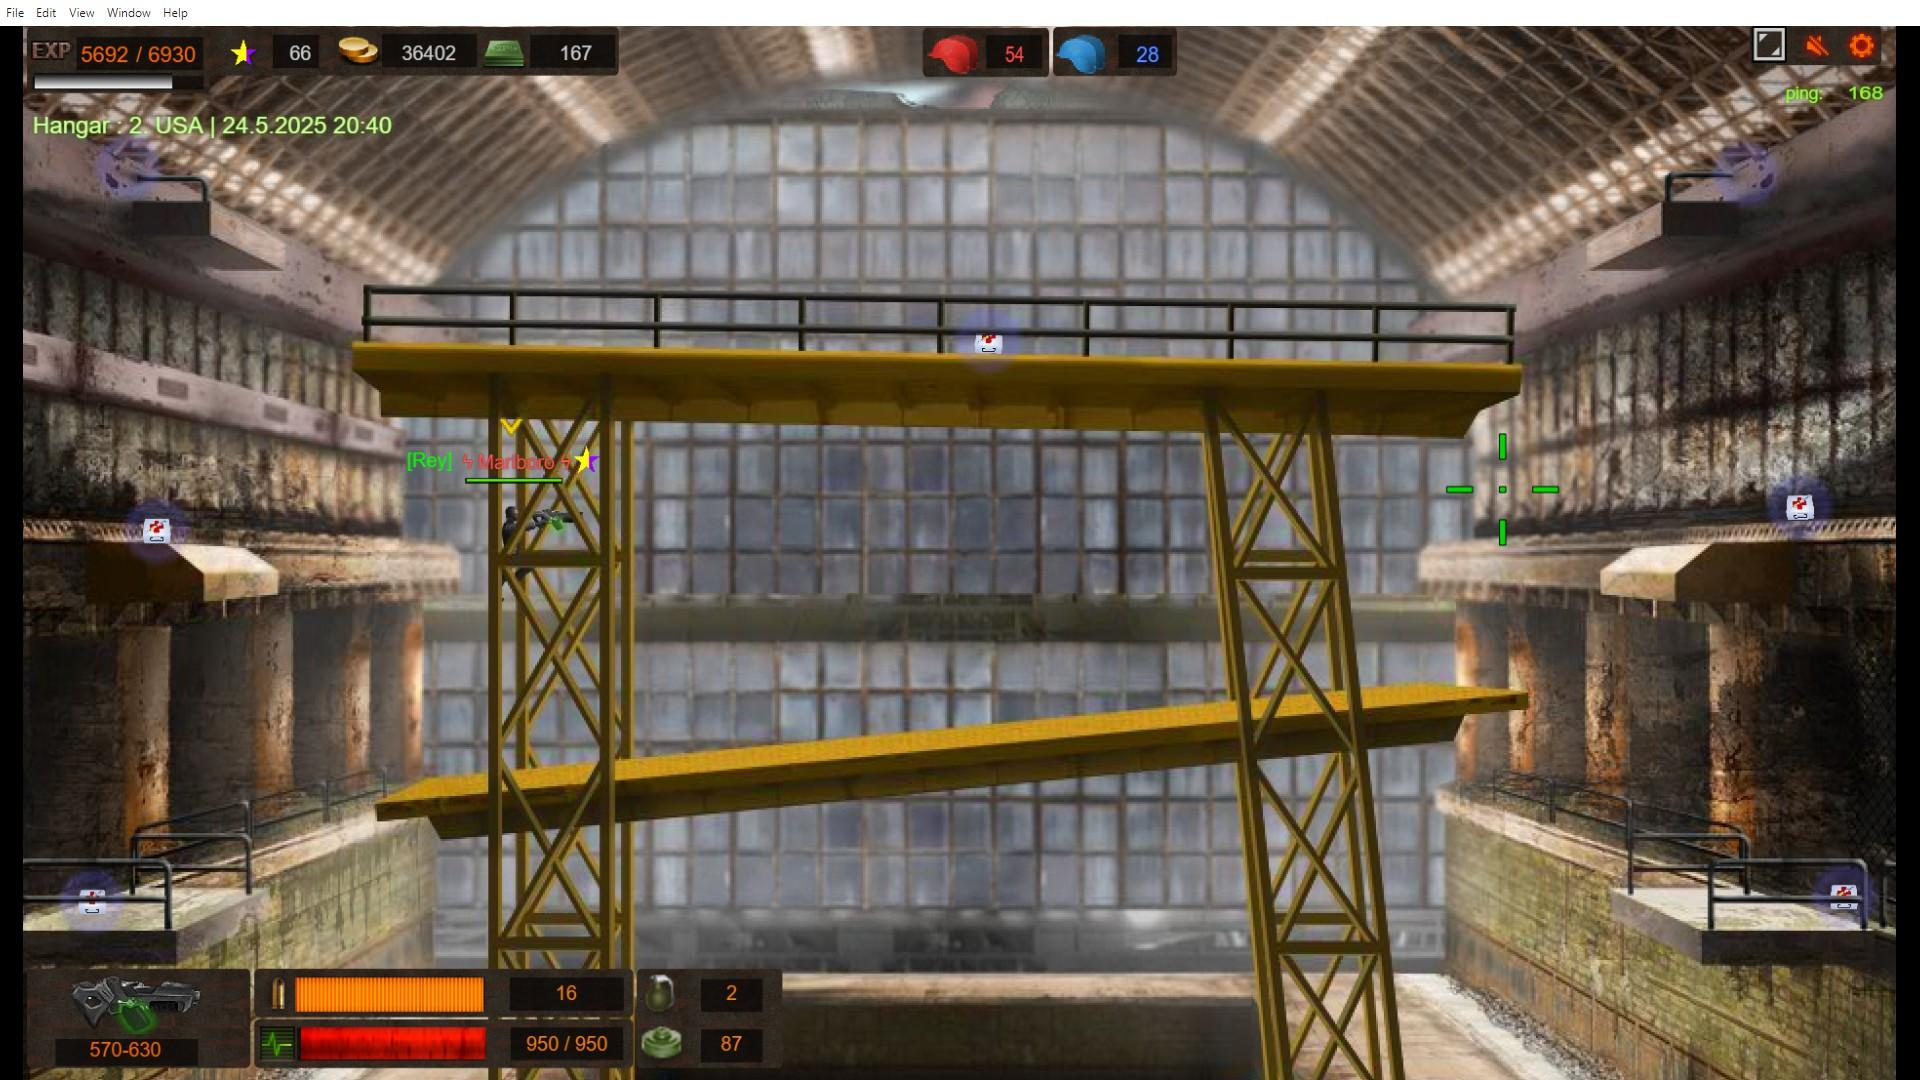enemy: (501, 504, 525, 593)
